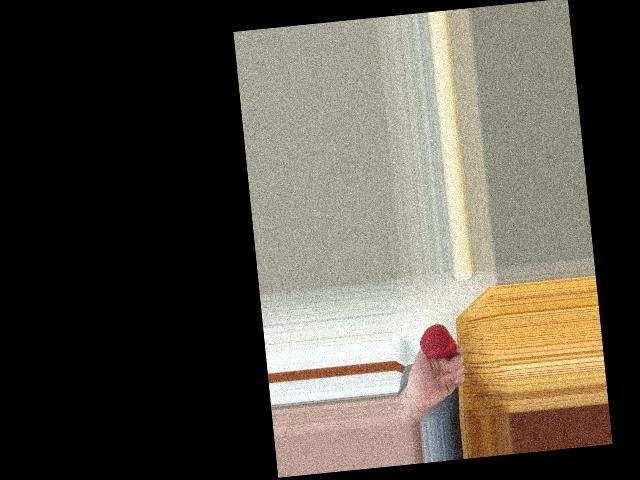apple: (417, 321, 457, 361)
